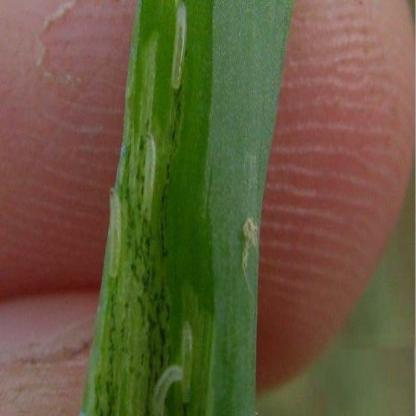whorl-maggot: (103, 180, 124, 278), (170, 0, 190, 92), (152, 360, 184, 416), (139, 130, 157, 224), (180, 318, 198, 405)
